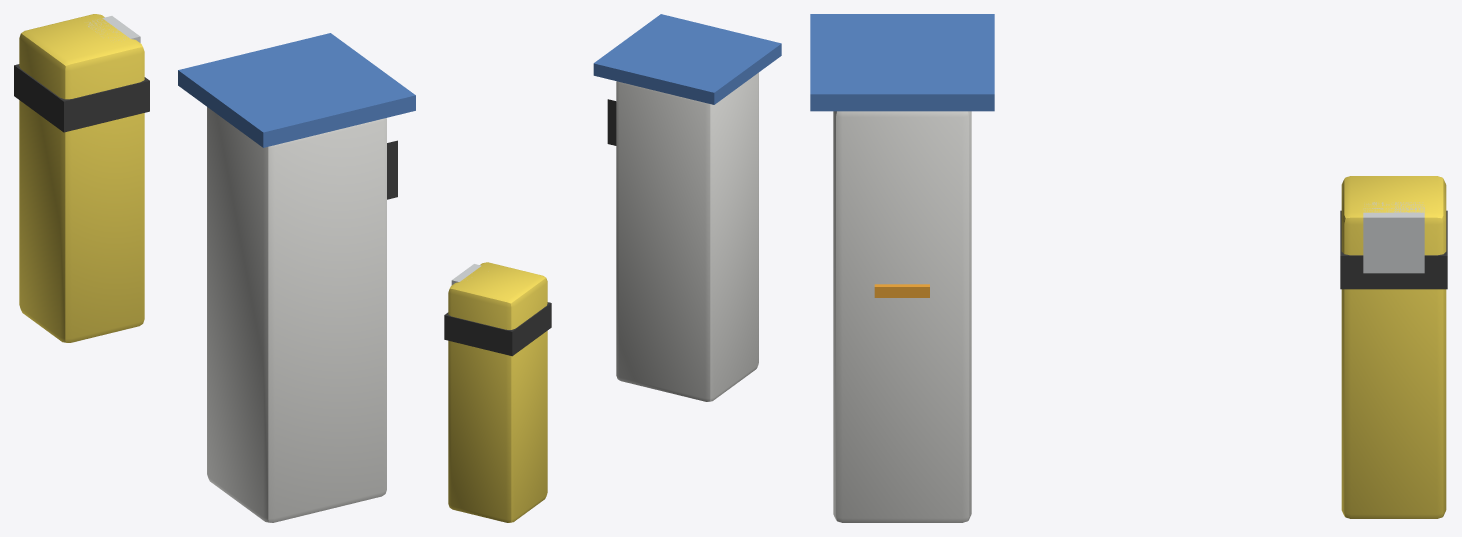
Rendered from barriere.glb.
3 renders of one model, left to right at view 1: azimuth 30°, elevation 25°; view 2: azimuth 150°, elevation 25°; view 3: azimuth 270°, elevation 25°, orthographic. The views are drawn at different scales.
Visible parts, largest first — view 1: barriere; view 2: barriere; view 3: barriere.
Boxes of the visible parts, box(x1,y1,x2,y2) form: barriere: box(14, 14, 415, 522); barriere: box(444, 14, 781, 522); barriere: box(810, 14, 1447, 522).
Bounding box in the file's own units: 0.72 × 1.58 × 2.07.
